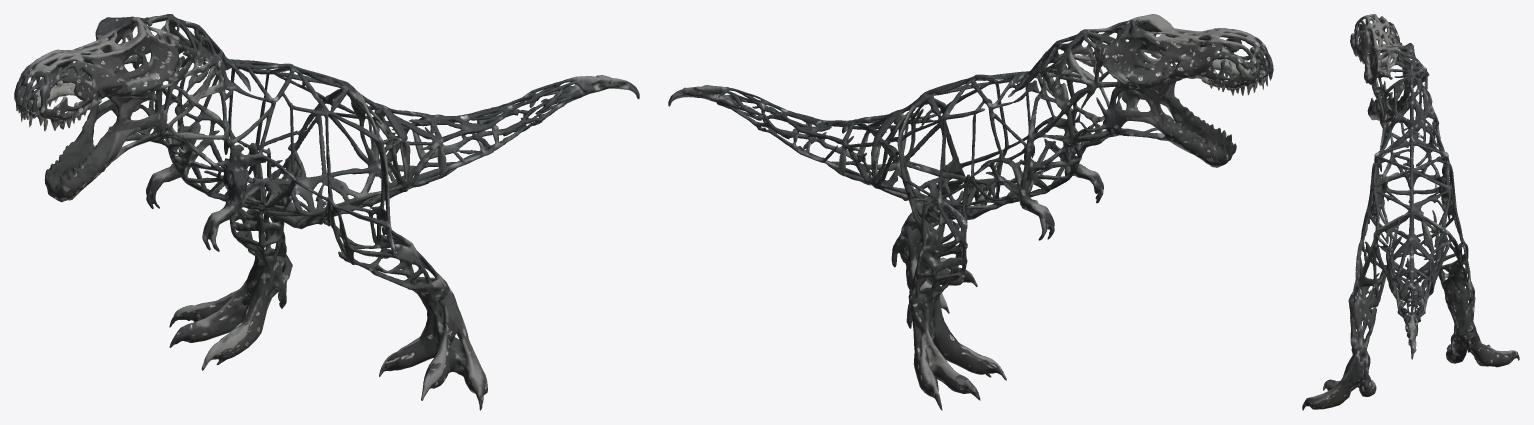
File: sankan_dino.glb
3 renders of one model, left to right at view 1: azimuth 30°, elevation 25°; view 2: azimuth 150°, elevation 25°; view 3: azimuth 270°, elevation 25°, orthographic. The views are drawn at different scales.
Visible parts, largest first — view 1: tripo_node_140e1c3f-b7bf-4818-821a-a5a272804b47; view 2: tripo_node_140e1c3f-b7bf-4818-821a-a5a272804b47; view 3: tripo_node_140e1c3f-b7bf-4818-821a-a5a272804b47.
Part boxes in pixels (x1,y1,x2,y2): tripo_node_140e1c3f-b7bf-4818-821a-a5a272804b47: (14,14,639,410); tripo_node_140e1c3f-b7bf-4818-821a-a5a272804b47: (668,14,1273,410); tripo_node_140e1c3f-b7bf-4818-821a-a5a272804b47: (1302,14,1519,410).
Size of the model in its own units: 0.9999 by 0.6006 by 0.4315.
1 material, 1 textured.
